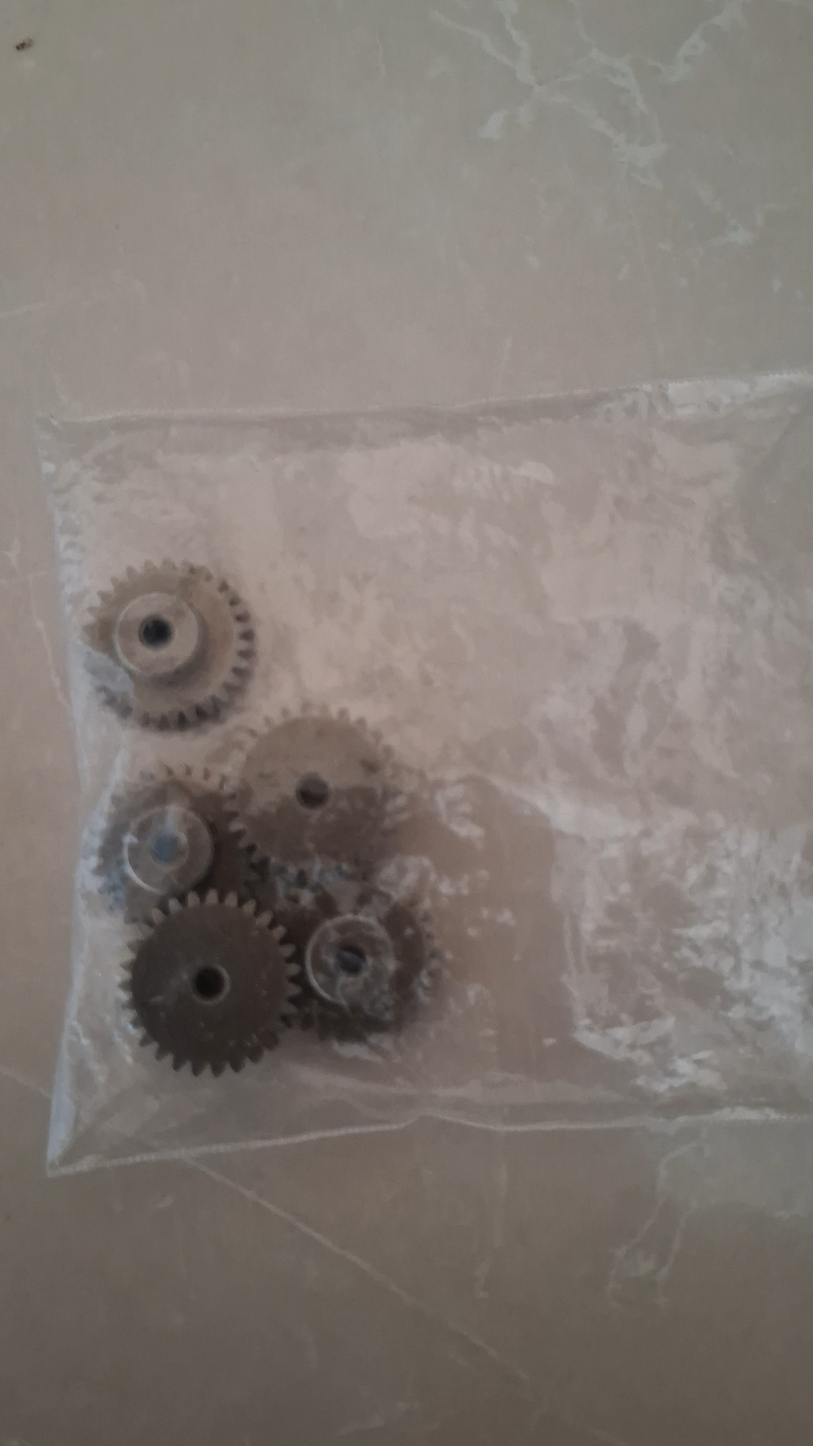spur gear: (124, 891, 298, 1075), (263, 869, 438, 1034), (84, 561, 254, 728), (234, 711, 400, 868), (96, 766, 255, 921)
